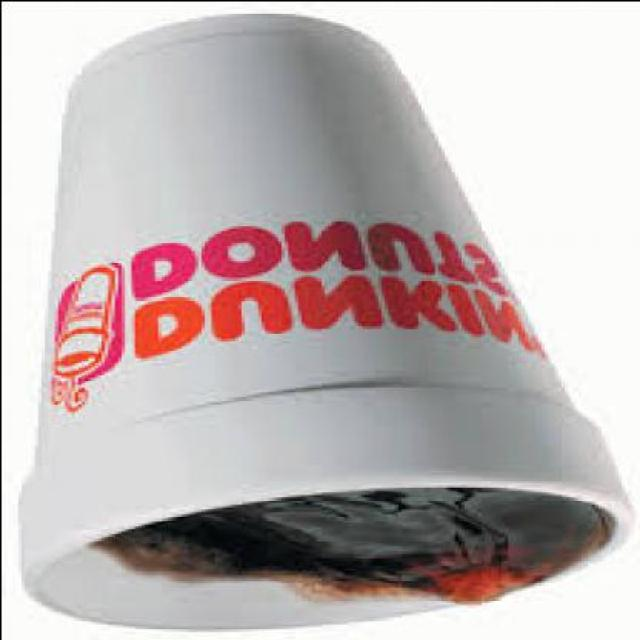PAPER: (10, 10, 627, 633)
